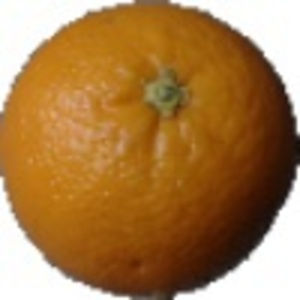laranja: (3, 2, 297, 298)
